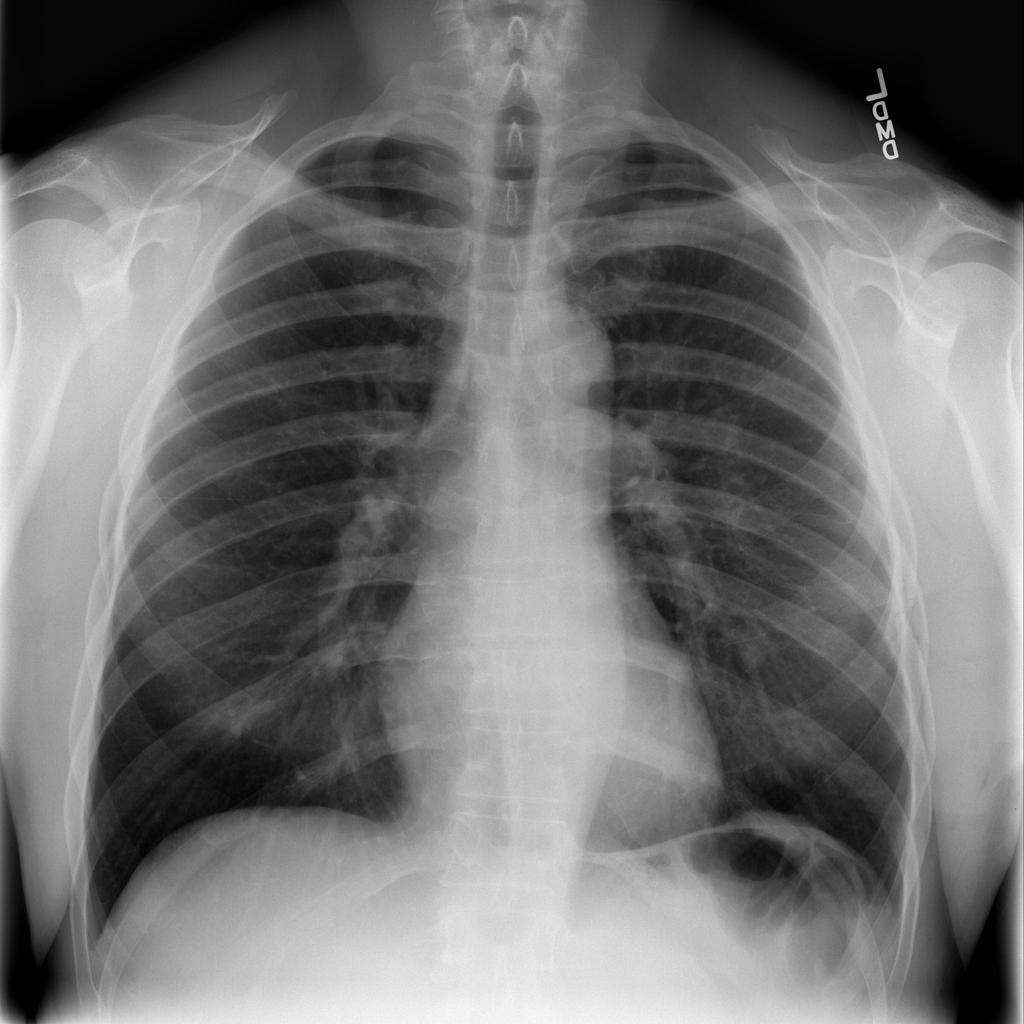nodule: (716, 612, 788, 686)
